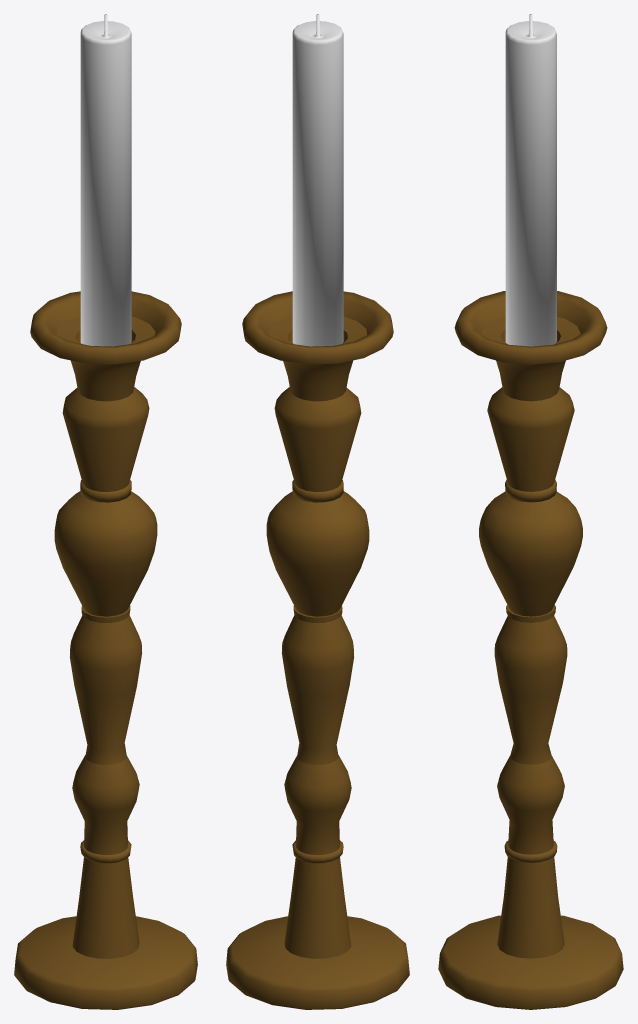
The model's file is Candle_holder_6.fbx.
3 renders of one model, left to right at view 1: azimuth 30°, elevation 25°; view 2: azimuth 150°, elevation 25°; view 3: azimuth 270°, elevation 25°, orthographic.
Parts seen in each view (by area): view 1: Candle_holder_6; view 2: Candle_holder_6; view 3: Candle_holder_6.
Boxes of the visible parts, x1,y1,x2,y2 form: Candle_holder_6: (14,14,197,1009); Candle_holder_6: (226,14,409,1009); Candle_holder_6: (438,14,623,1009).
Size of the model in its own units: 9 by 51.27 by 9.
